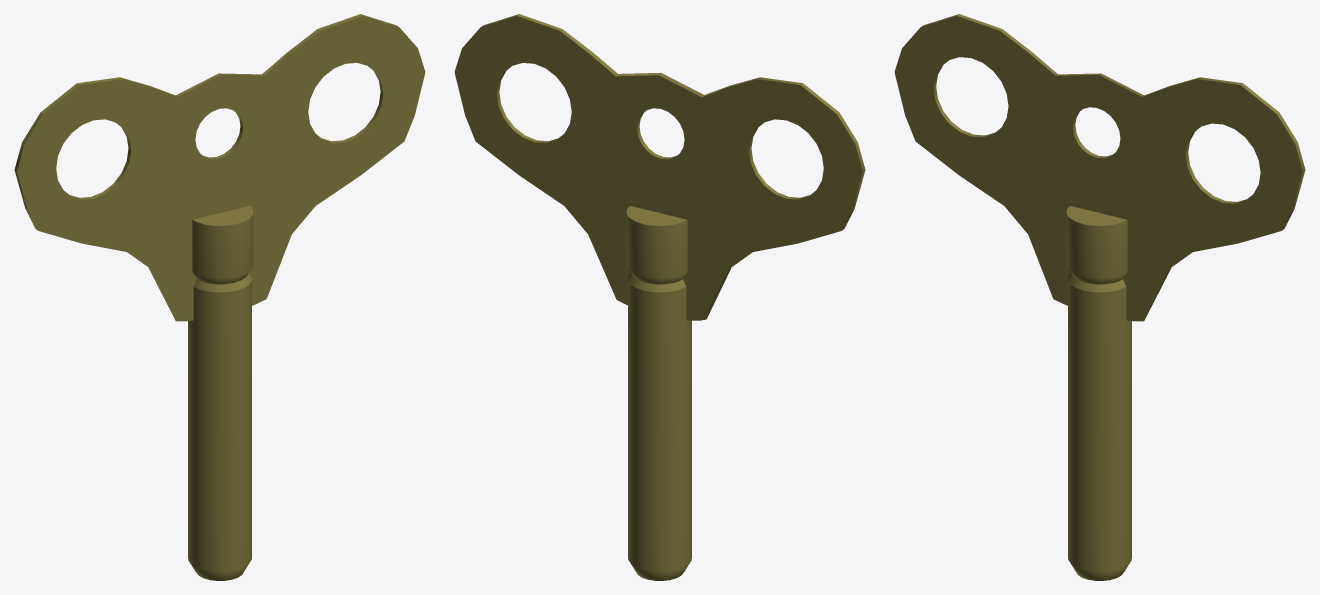
Rendered from Car Key Crank.fbx.
3 renders of one model, left to right at view 1: azimuth 30°, elevation 25°; view 2: azimuth 150°, elevation 25°; view 3: azimuth 330°, elevation 25°, orthographic.
Parts seen in each view (by area): view 1: pCube3; view 2: pCube3; view 3: pCube3.
Part boxes in pixels (box(x1,y1,x2,y2)): pCube3: box(14, 14, 425, 580); pCube3: box(454, 14, 865, 580); pCube3: box(894, 14, 1305, 580).
Bounding box in the file's own units: 9.17 × 11.18 × 1.31.
